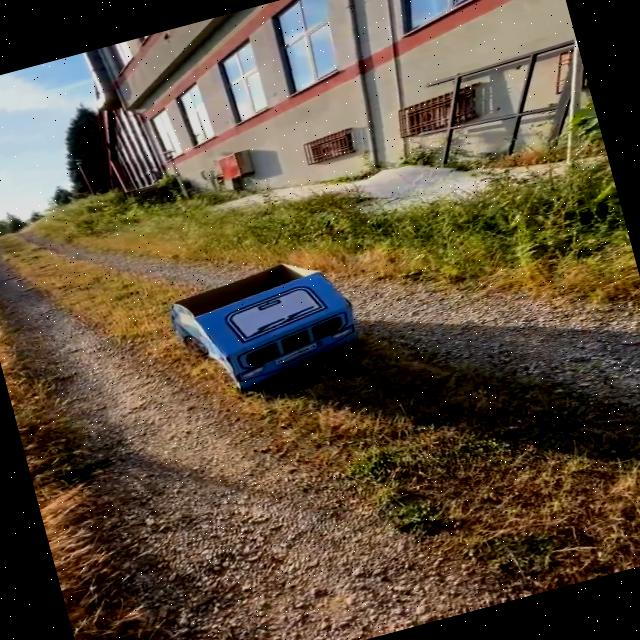blue_car: (133, 175, 458, 442)
